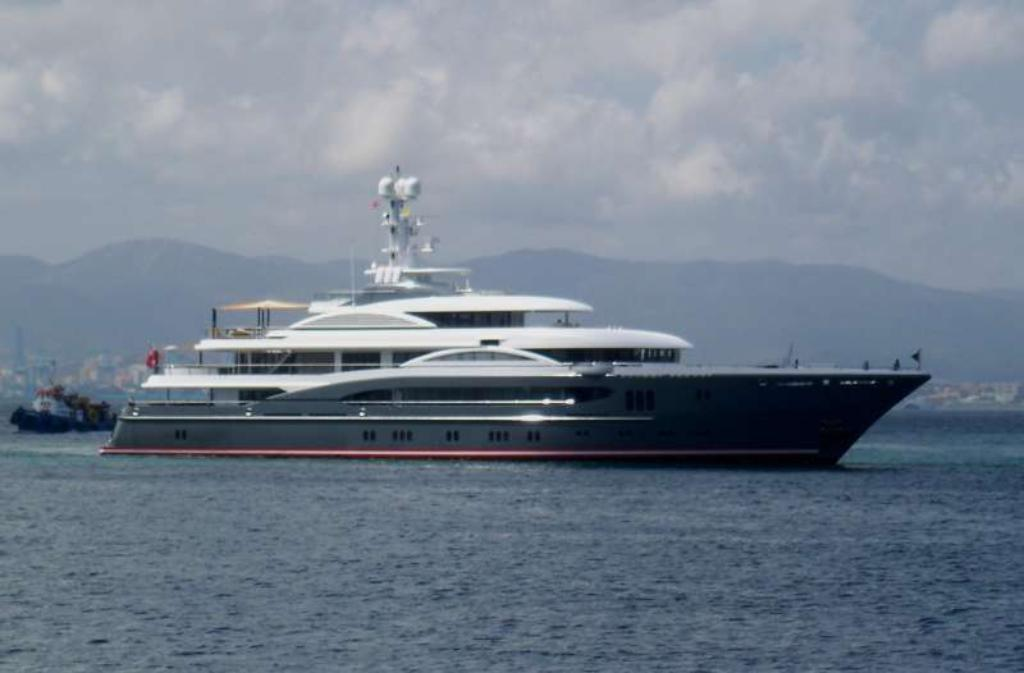PassengerShip: (95, 156, 931, 472)
